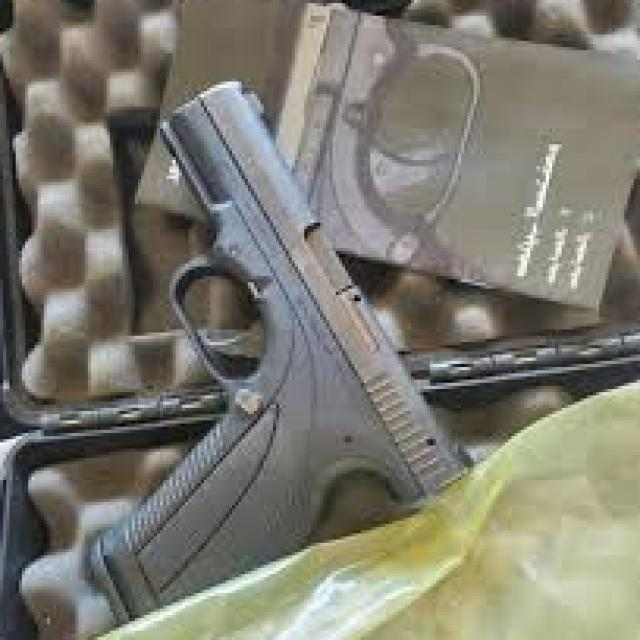Gun: (107, 53, 464, 640)
